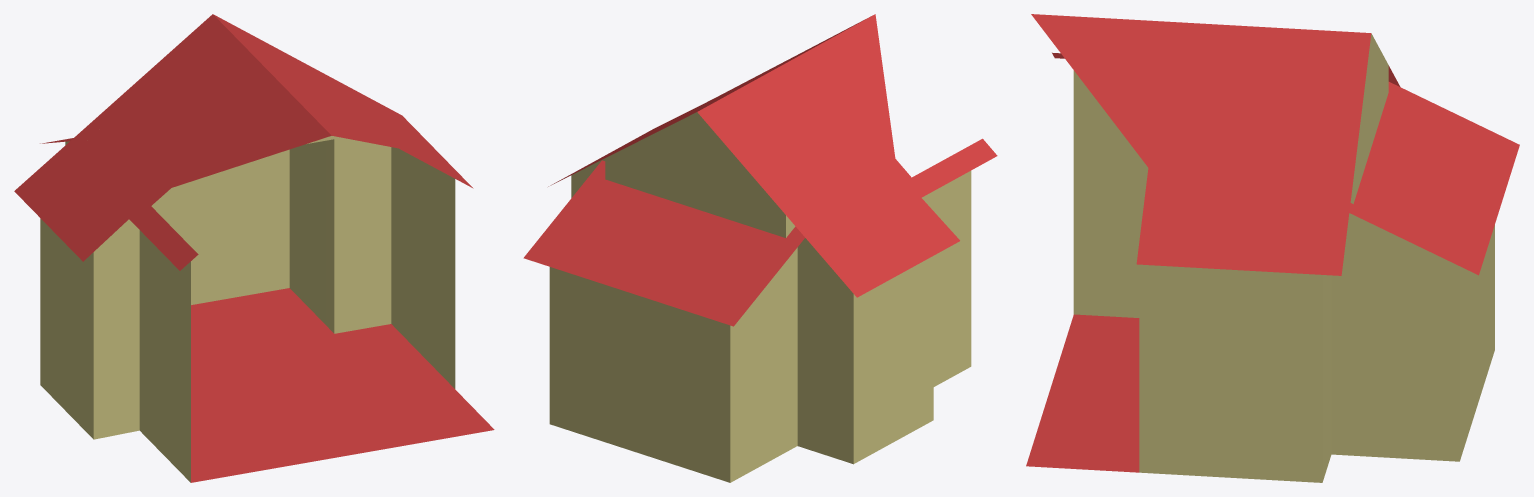
3 views of the same model, side by side, from view 1: azimuth 30°, elevation 25°; view 2: azimuth 150°, elevation 25°; view 3: azimuth 270°, elevation 25° (orthographic). The views are drawn at different scales.
Size of the model in its own units: 16.4 by 16.7 by 13.65.
